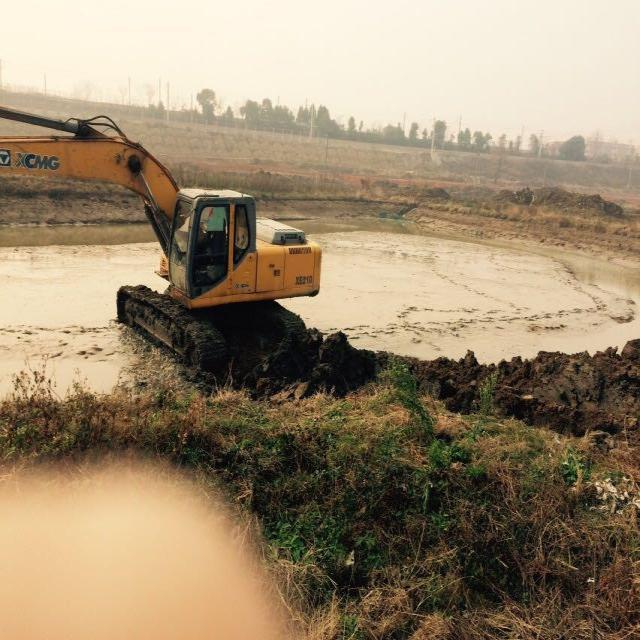excavator: (0, 105, 322, 370)
